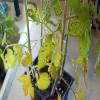Tomato Septoria leaf spot: (67, 4, 92, 38), (36, 33, 54, 73), (76, 30, 96, 57), (26, 4, 41, 27), (52, 49, 66, 72), (36, 70, 51, 91), (49, 1, 63, 16)
